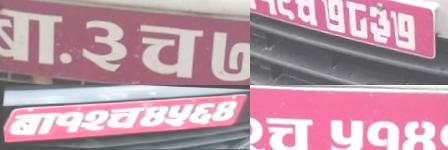1: (361, 118, 403, 150), (53, 111, 83, 135), (433, 120, 448, 150), (254, 0, 279, 17)
2: (77, 109, 110, 132), (250, 113, 268, 150)
3: (73, 12, 134, 73), (366, 4, 394, 46)
4: (397, 118, 438, 150), (137, 104, 169, 128), (210, 99, 240, 123)
5: (321, 115, 366, 150), (165, 103, 193, 128)
6: (187, 100, 219, 126)
7: (205, 24, 250, 85), (385, 10, 422, 52), (316, 0, 348, 35)
8: (341, 0, 371, 40)
9: (270, 0, 297, 20)
ba: (0, 1, 70, 70), (5, 110, 60, 137)
cha: (132, 18, 208, 83), (260, 111, 316, 150), (105, 105, 146, 131), (291, 0, 321, 27)
